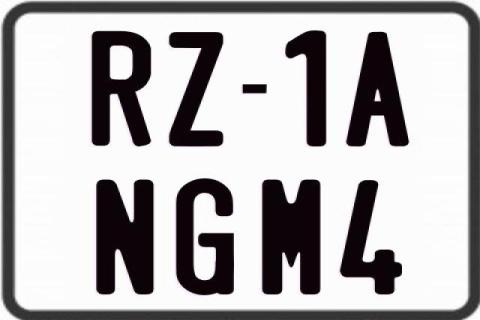0: (338, 180, 400, 299), (282, 29, 327, 147)
A: (343, 32, 411, 148)
G: (176, 177, 238, 297)
M: (260, 178, 318, 294)
N: (93, 179, 155, 295)
R: (90, 32, 152, 150)
Z: (167, 30, 222, 146)
